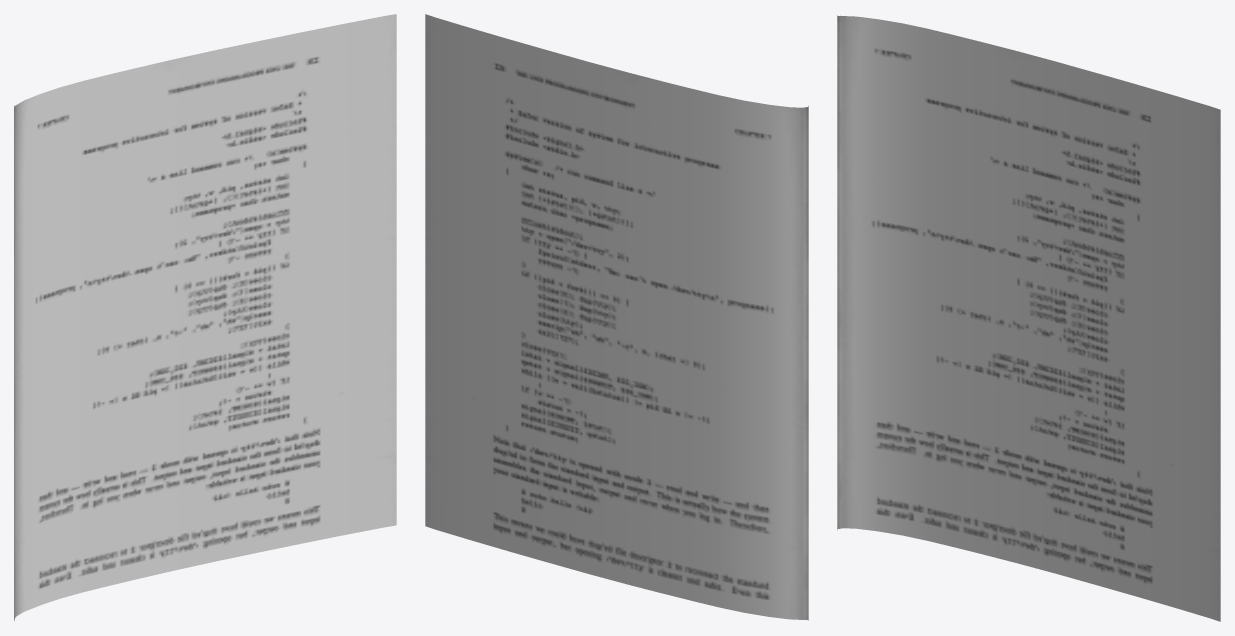
Rendered from MeshBookFront_14_1_GeomSubset_2.obj.
The picture shows the model from 3 angles, left to right: view 1: azimuth 30°, elevation 25°; view 2: azimuth 150°, elevation 25°; view 3: azimuth 330°, elevation 25°; orthographic projection.
Visible parts, largest first — view 1: MeshBookFront_14_1_GeomSubset_2; view 2: MeshBookFront_14_1_GeomSubset_2; view 3: MeshBookFront_14_1_GeomSubset_2.
Part boxes in pixels (x1,y1,x2,y2): MeshBookFront_14_1_GeomSubset_2: [14, 14, 396, 620]; MeshBookFront_14_1_GeomSubset_2: [425, 14, 808, 620]; MeshBookFront_14_1_GeomSubset_2: [837, 15, 1220, 621].
Bounding box in the file's own units: 0.1453 × 0.1878 × 0.00691.
1 material, 1 textured.
